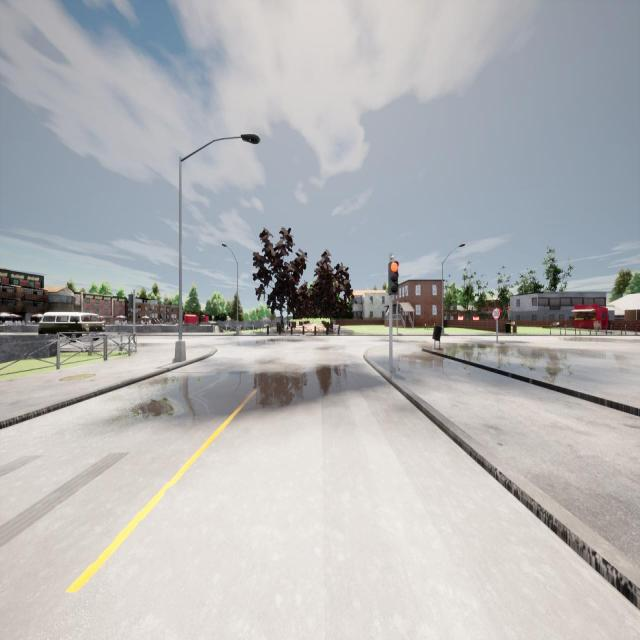Traffic_Signs: (492, 308, 502, 319)
Vehicle: (39, 312, 104, 342)
traffic_light: (388, 260, 399, 294), (129, 294, 133, 309)
